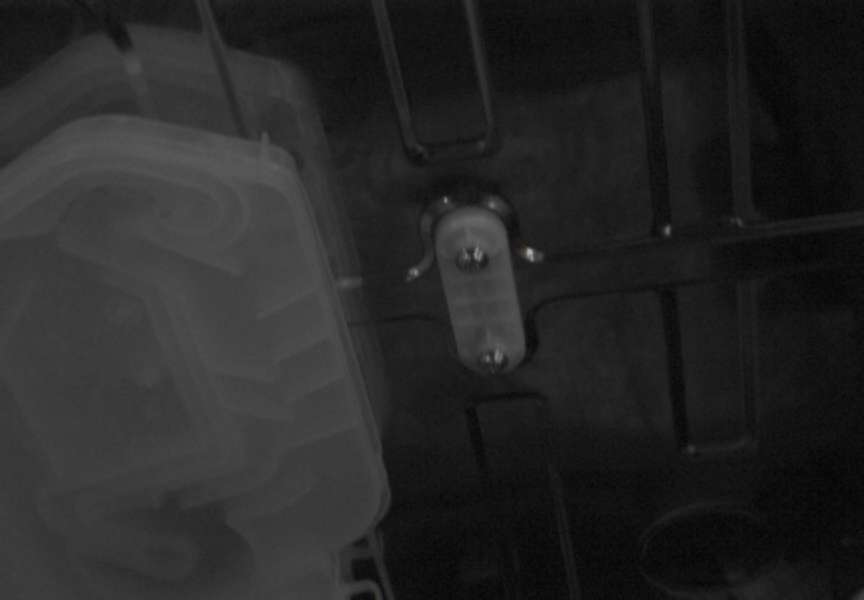screw: (455, 246, 489, 273), (477, 347, 509, 375)
